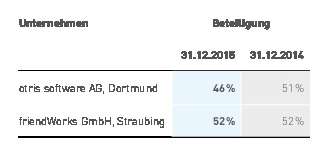table: (0, 0, 323, 156)
